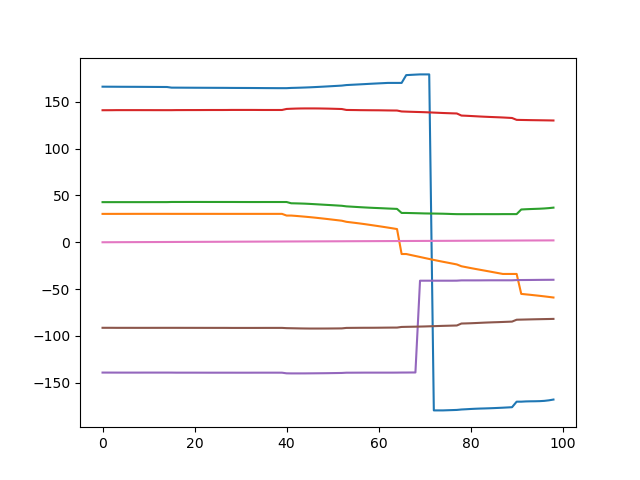Good_Bicep_Curl: (3, 1, 639, 479)
